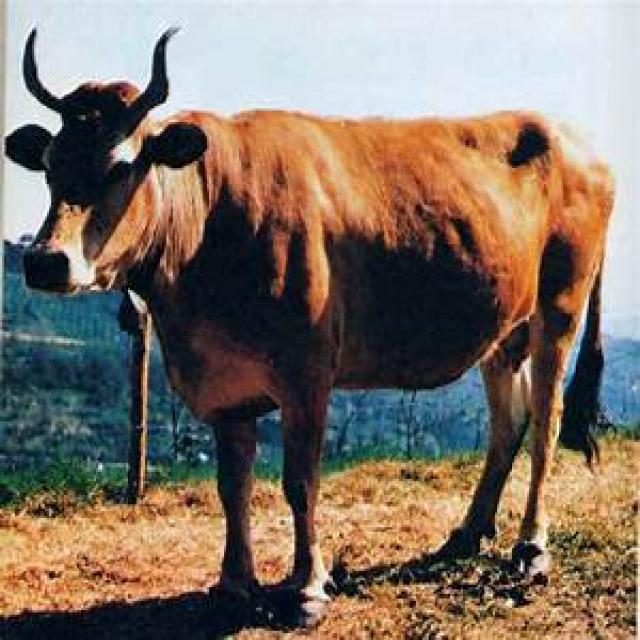cow: (21, 30, 619, 631)
